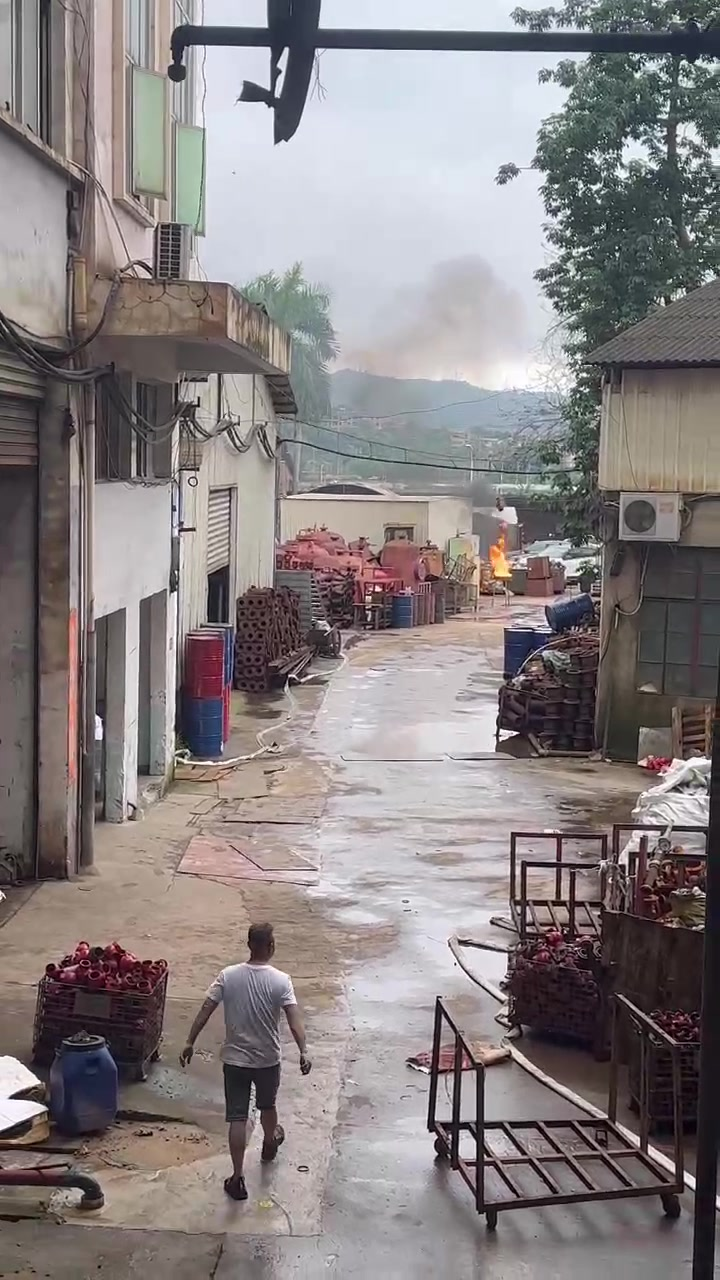fire: (490, 533, 510, 575)
